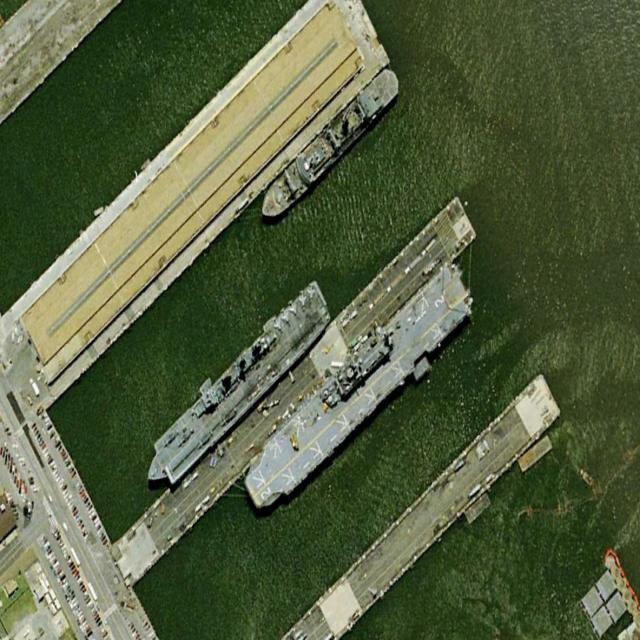Landing: (237, 253, 483, 530)
Other Ship: (137, 276, 337, 503)
Other Warship: (255, 61, 404, 228)
